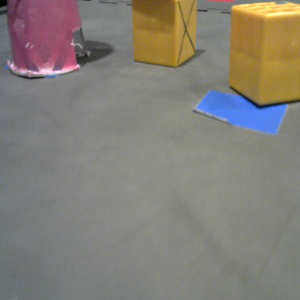middle: (6, 1, 90, 78)
